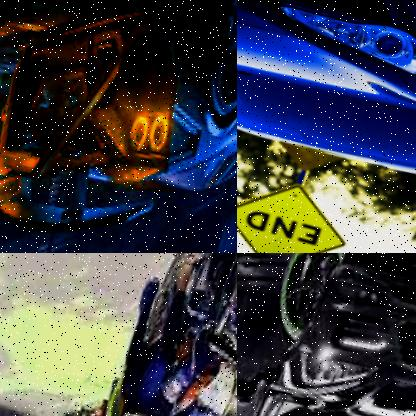bike: (116, 253, 237, 416)
car: (237, 0, 416, 231), (237, 253, 416, 416)
